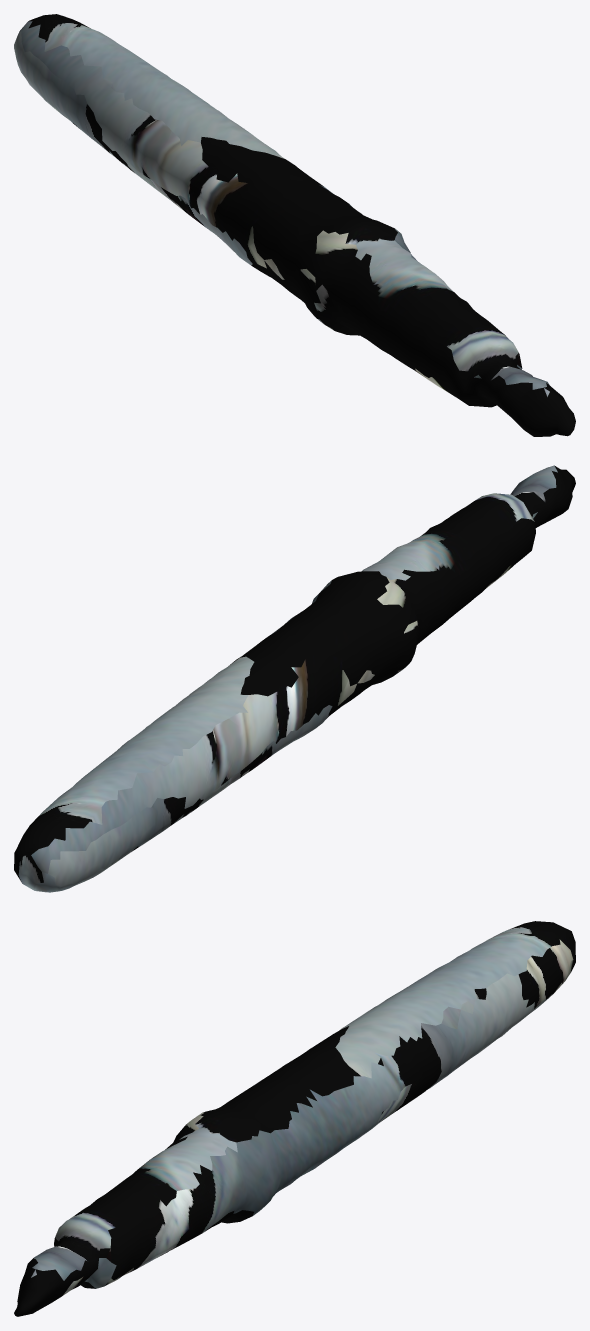
File: scan_align.obj
The picture shows the model from 3 angles, top to bottom: view 1: azimuth 30°, elevation 25°; view 2: azimuth 150°, elevation 25°; view 3: azimuth 330°, elevation 25°; orthographic projection. The views are drawn at different scales.
Size of the model in its own units: 0.0117 by 0.0118 by 0.1096.
